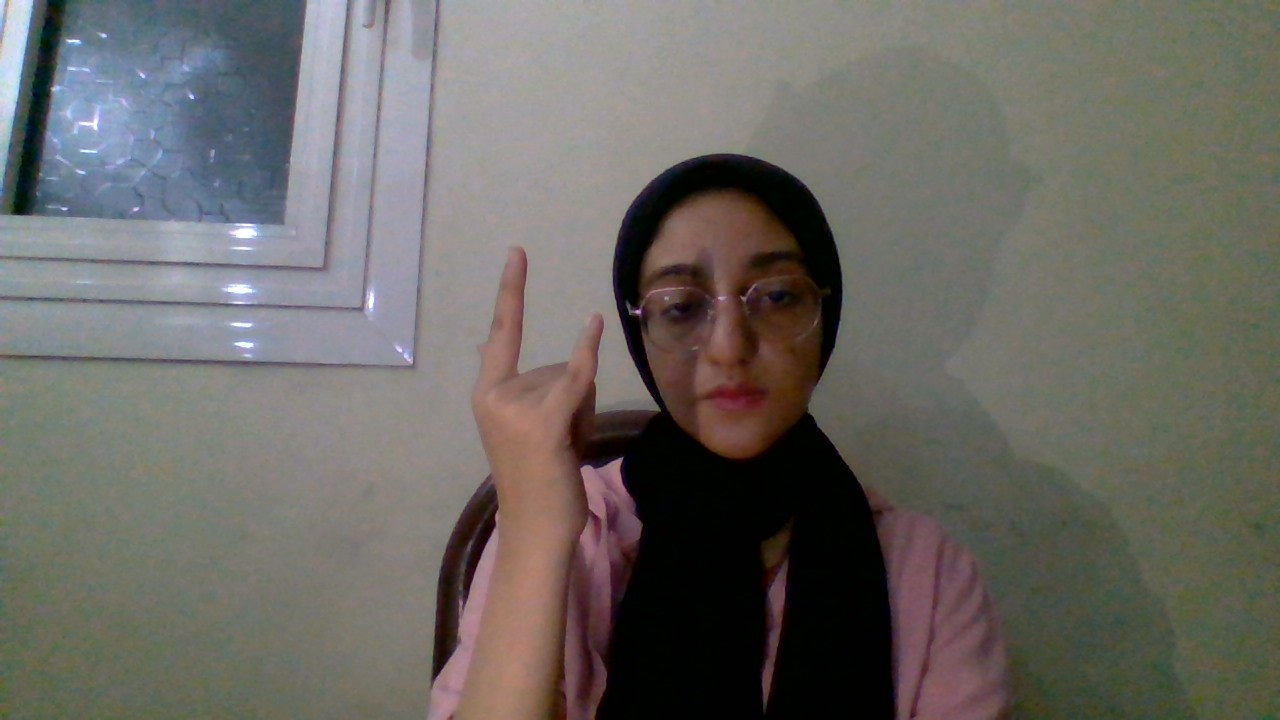love: (435, 241, 673, 569)
